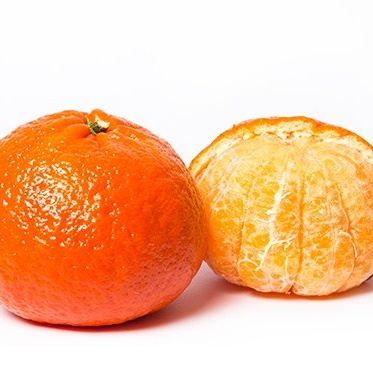mandarin: (1, 109, 203, 326), (185, 120, 373, 298)
